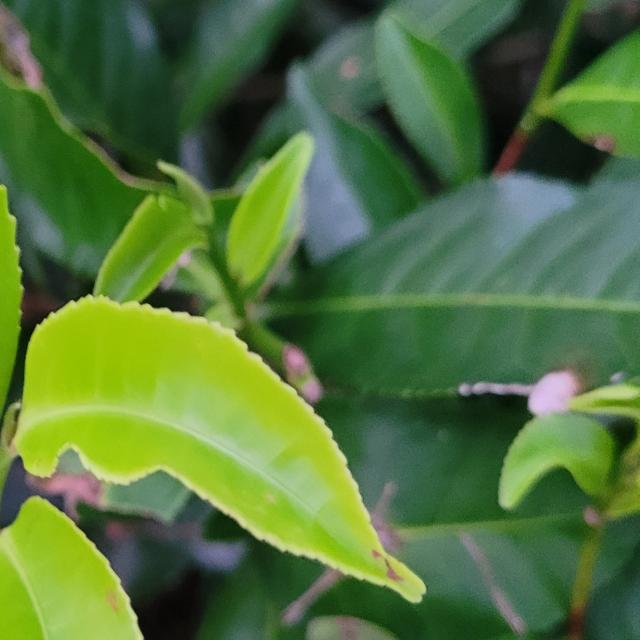Catagory A(1-2 days): (12, 289, 443, 609), (226, 136, 329, 288)
